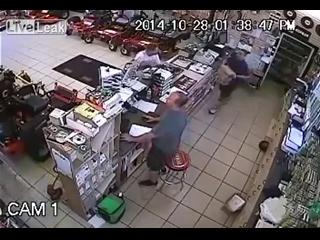Normal: (124, 90, 190, 186), (216, 49, 252, 101)
